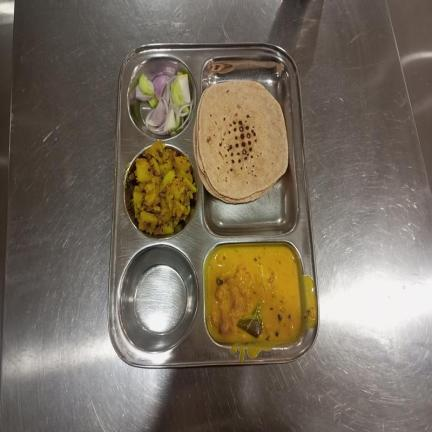Curry: (208, 246, 301, 345)
Plate: (107, 42, 321, 369)
Roti: (193, 80, 288, 204)
Salad: (135, 70, 195, 136)
Zeera Aalu: (133, 137, 197, 238)
